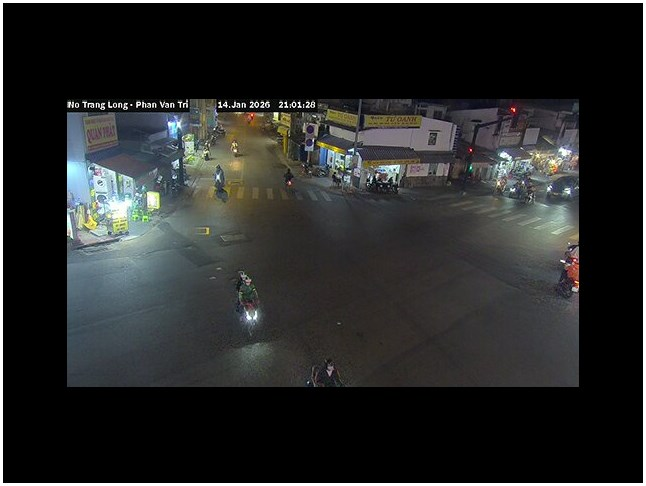car: (542, 173, 578, 204)
